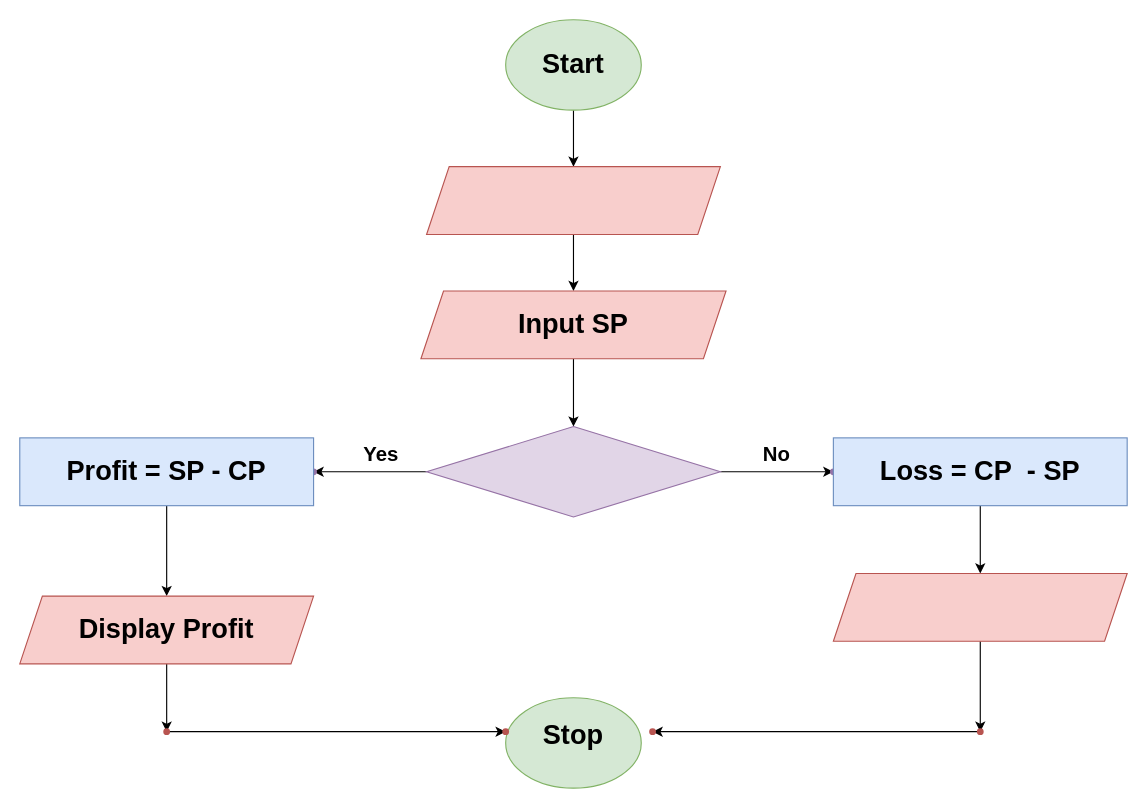
Some shapes in this 1147 by 808 pixel diagram are drawn without their labels. The centre of each missing label's shape, as x and y in pixels:
"Display Loss" goes at point (979, 606).
"Input CP" goes at point (572, 200).
"Is SP > CP?" goes at point (572, 471).
